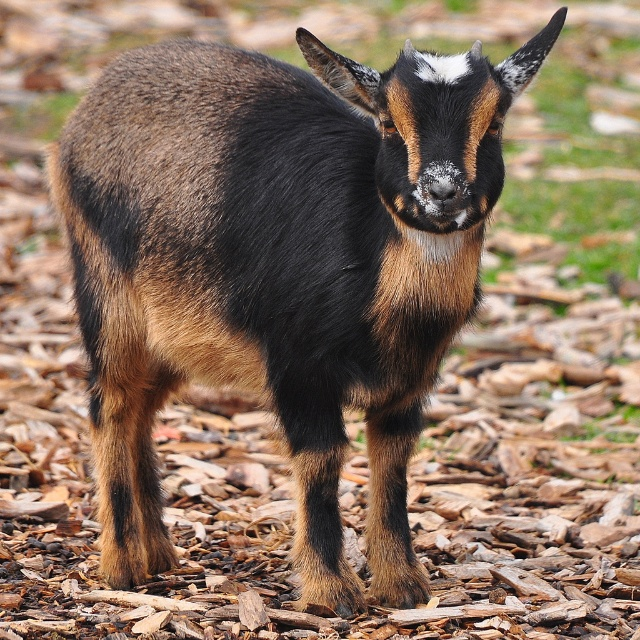Goat: (37, 6, 568, 619)
